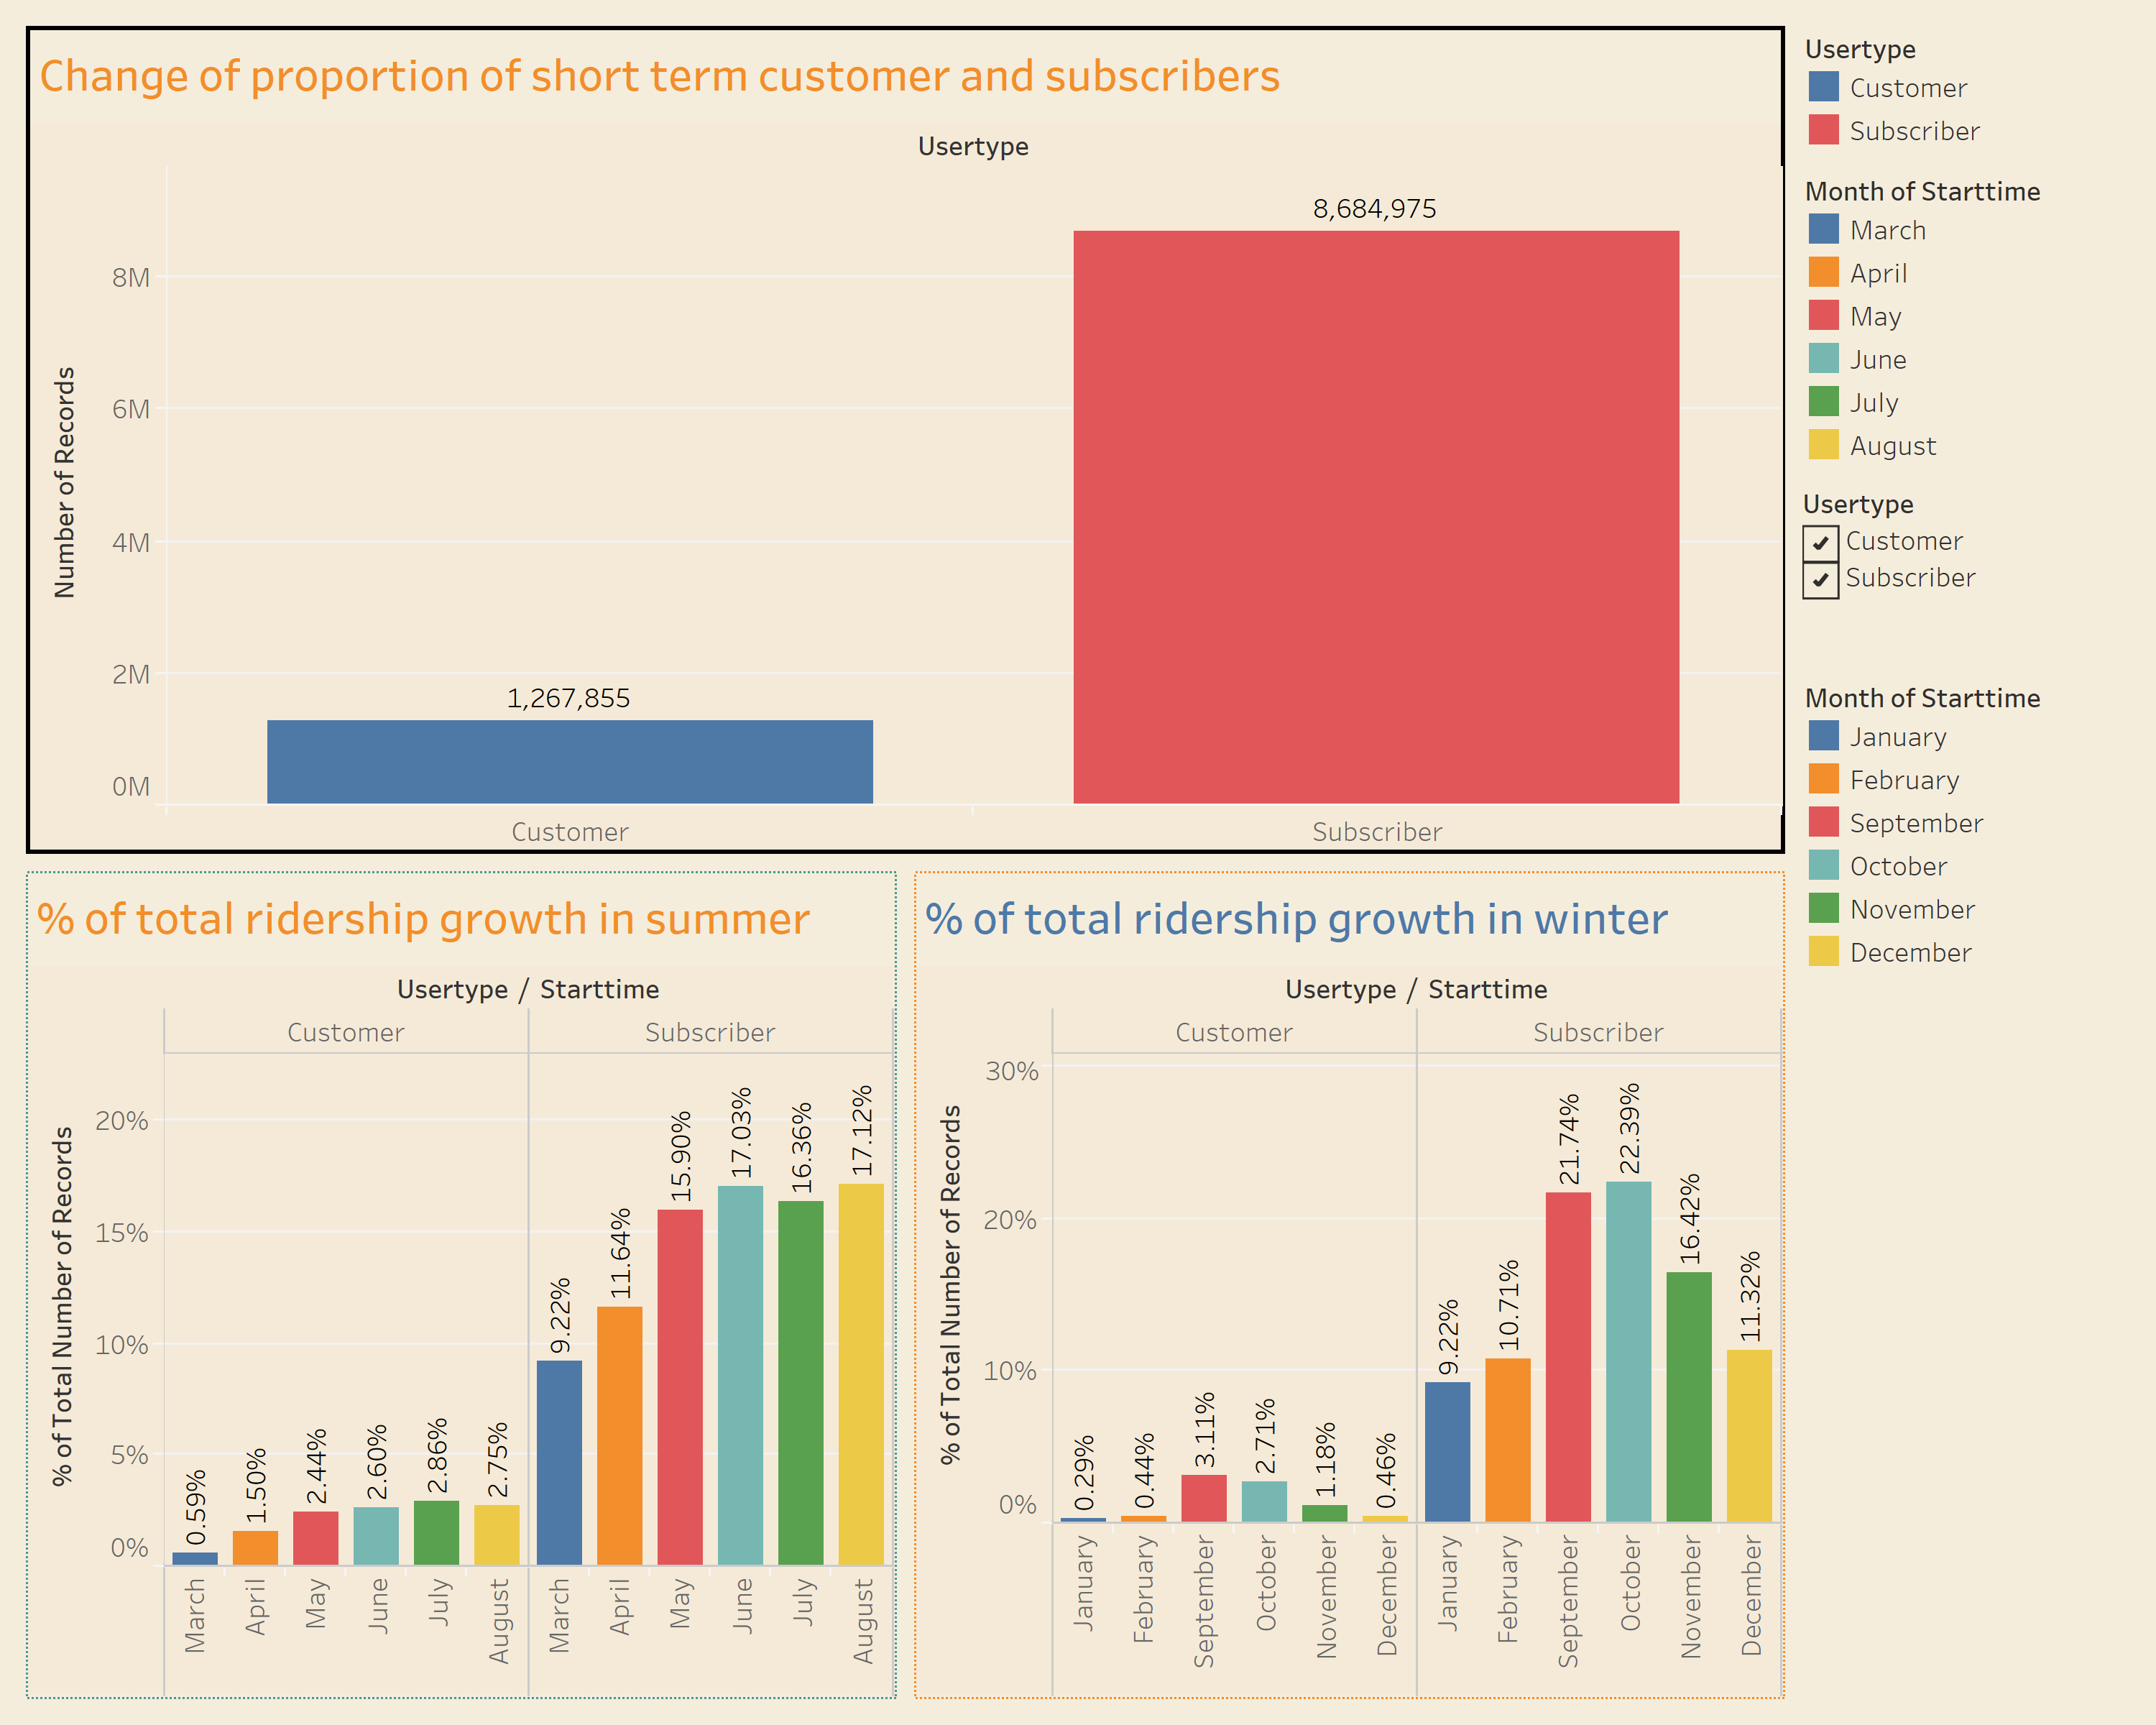

Layout of this report page (visuals, bound fields, positions):
{"tool":"tableau","page":{"name":"Comparison of ridership growth","canvas":[1000,800],"ordinal":1},"visuals":[{"type":"worksheet","title":"Change of proportion of short term customer and subscribers ","mark":"Automatic","rows":["Number of Records"],"cols":["usertype"],"box":[8,8,824,392]},{"type":"legend","title":"Change of proportion of short term customer and subscribers ","param":"[federated.0xiukut0ggkzjn19z69da158yac8].[none:usertype:nk]","box":[832,8,160,66]},{"type":"legend","title":"% of total ridership growth in summer","param":"[federated.0xiukut0ggkzjn19z69da158yac8].[mn:starttime:ok]","box":[832,74,160,146]},{"type":"filter","title":"% of total ridership growth in winter","param":"[federated.1tjbtri1fbnhg9139qmnr101qahb (copy)].[none:usertype:nk]","box":[832,220,160,89]},{"type":"legend","title":"% of total ridership growth in winter","param":"[federated.1tjbtri1fbnhg9139qmnr101qahb (copy)].[mn:starttime:ok]","box":[832,309,160,146]},{"type":"worksheet","title":"% of total ridership growth in summer","mark":"Bar","cols":["usertype","starttime"],"box":[8,400,412,392]},{"type":"worksheet","title":"% of total ridership growth in winter","mark":"Bar","cols":["usertype","starttime"],"box":[420,400,412,392]}]}

Visuals, with their boxes in screenshot pixels (x1, y1, x2, y2), scaled from the page's 1000x800 canvas onto the 2156x1725 screenshot:
"Change of proportion of short term customer and subscribers " worksheet: [17, 17, 1794, 862]
"Change of proportion of short term customer and subscribers " legend: [1794, 17, 2139, 160]
"% of total ridership growth in summer" legend: [1794, 160, 2139, 474]
"% of total ridership growth in winter" filter: [1794, 474, 2139, 666]
"% of total ridership growth in winter" legend: [1794, 666, 2139, 981]
"% of total ridership growth in summer" worksheet (Bar marks): [17, 862, 906, 1708]
"% of total ridership growth in winter" worksheet (Bar marks): [906, 862, 1794, 1708]
